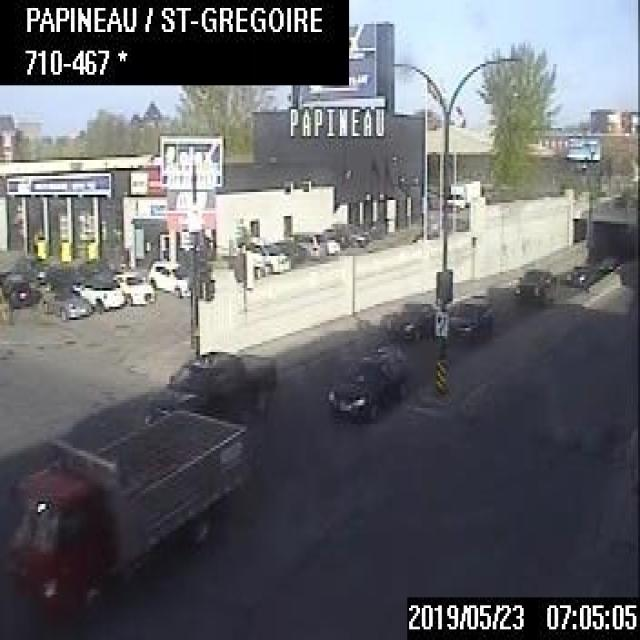vehicle: (9, 400, 249, 622), (146, 346, 278, 421), (328, 344, 406, 421), (236, 232, 290, 274), (449, 293, 493, 339), (384, 298, 434, 338), (79, 271, 126, 310), (149, 257, 196, 296), (113, 264, 152, 304), (41, 286, 90, 316), (1, 271, 35, 309), (513, 266, 549, 298), (294, 226, 324, 259), (566, 259, 586, 288), (595, 250, 618, 274), (324, 235, 338, 253)
